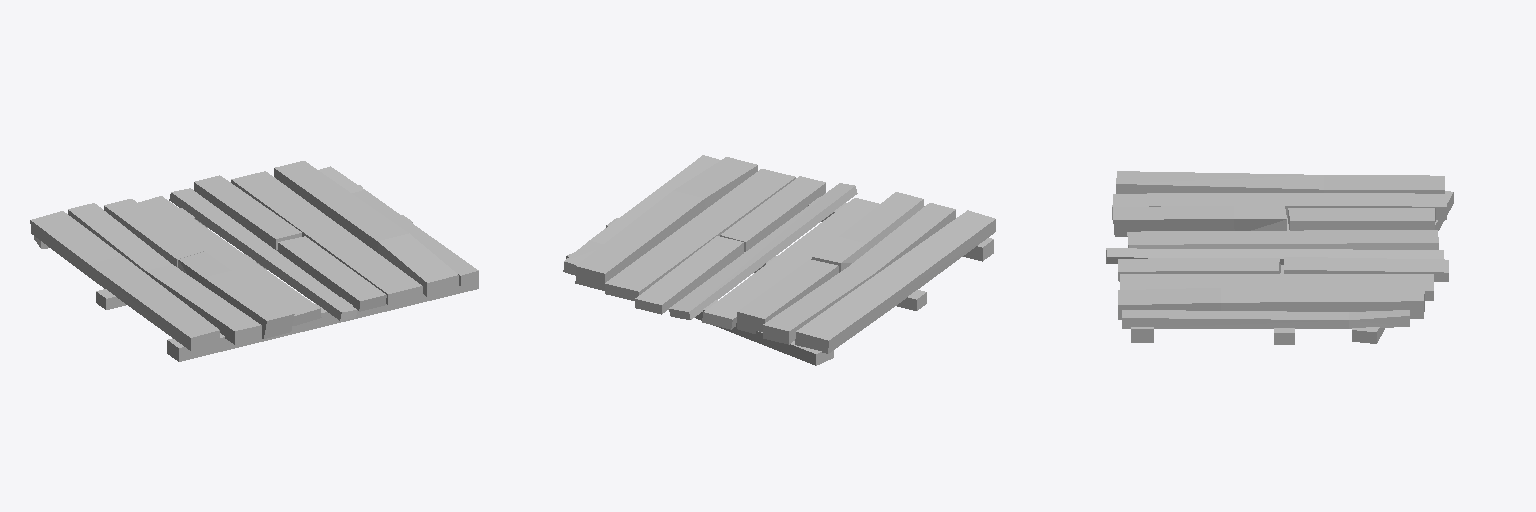
Rendered from RaftOffset.obj.
3 views of the same model, side by side, from view 1: azimuth 30°, elevation 25°; view 2: azimuth 150°, elevation 25°; view 3: azimuth 270°, elevation 25° (orthographic).
Visible parts, largest first — view 1: Cube.001_Cube.015; view 2: Cube.001_Cube.015; view 3: Cube.001_Cube.015.
Boxes of the visible parts, box(x1,y1,x2,y2) form: Cube.001_Cube.015: box(30, 161, 478, 361); Cube.001_Cube.015: box(563, 155, 995, 365); Cube.001_Cube.015: box(1106, 171, 1453, 344).
Size of the model in its own units: 2.14 by 0.1925 by 2.08.